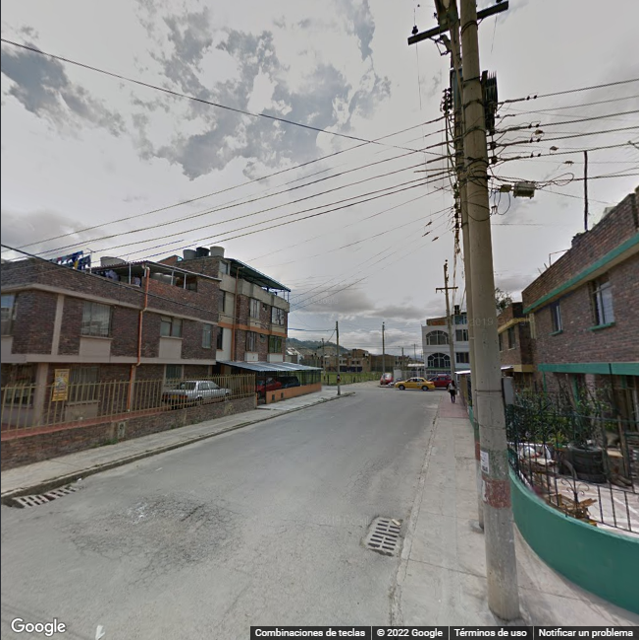D10: (285, 512, 362, 534)
D20: (80, 491, 240, 572), (262, 564, 368, 625)
